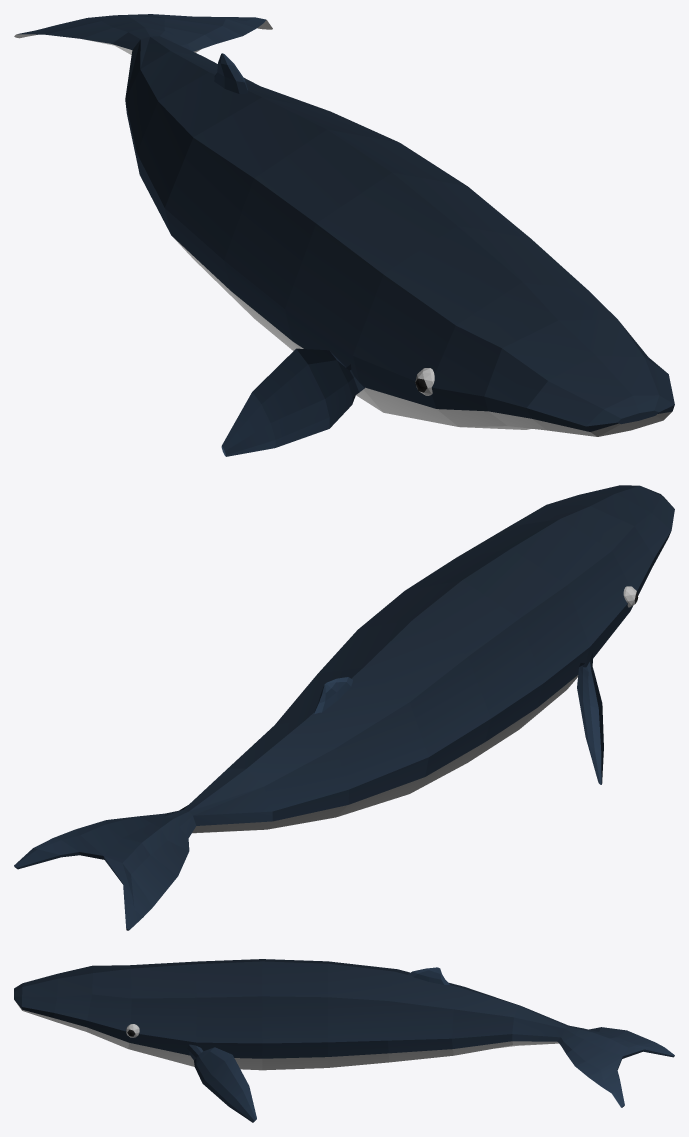
The model's file is whale.glb.
3 renders of one model, top to bottom at view 1: azimuth 30°, elevation 25°; view 2: azimuth 150°, elevation 25°; view 3: azimuth 270°, elevation 25°, orthographic. The views are drawn at different scales.
Parts seen in each view (by area): view 1: whale_merged; view 2: whale_merged; view 3: whale_merged.
Part boxes in pixels (x1,y1,x2,y2): whale_merged: [14, 14, 674, 456]; whale_merged: [14, 485, 674, 930]; whale_merged: [14, 959, 674, 1122].
Bounding box in the file's own units: 3.34 × 1.81 × 9.17.
Materials: 5 (5 with a texture image).
